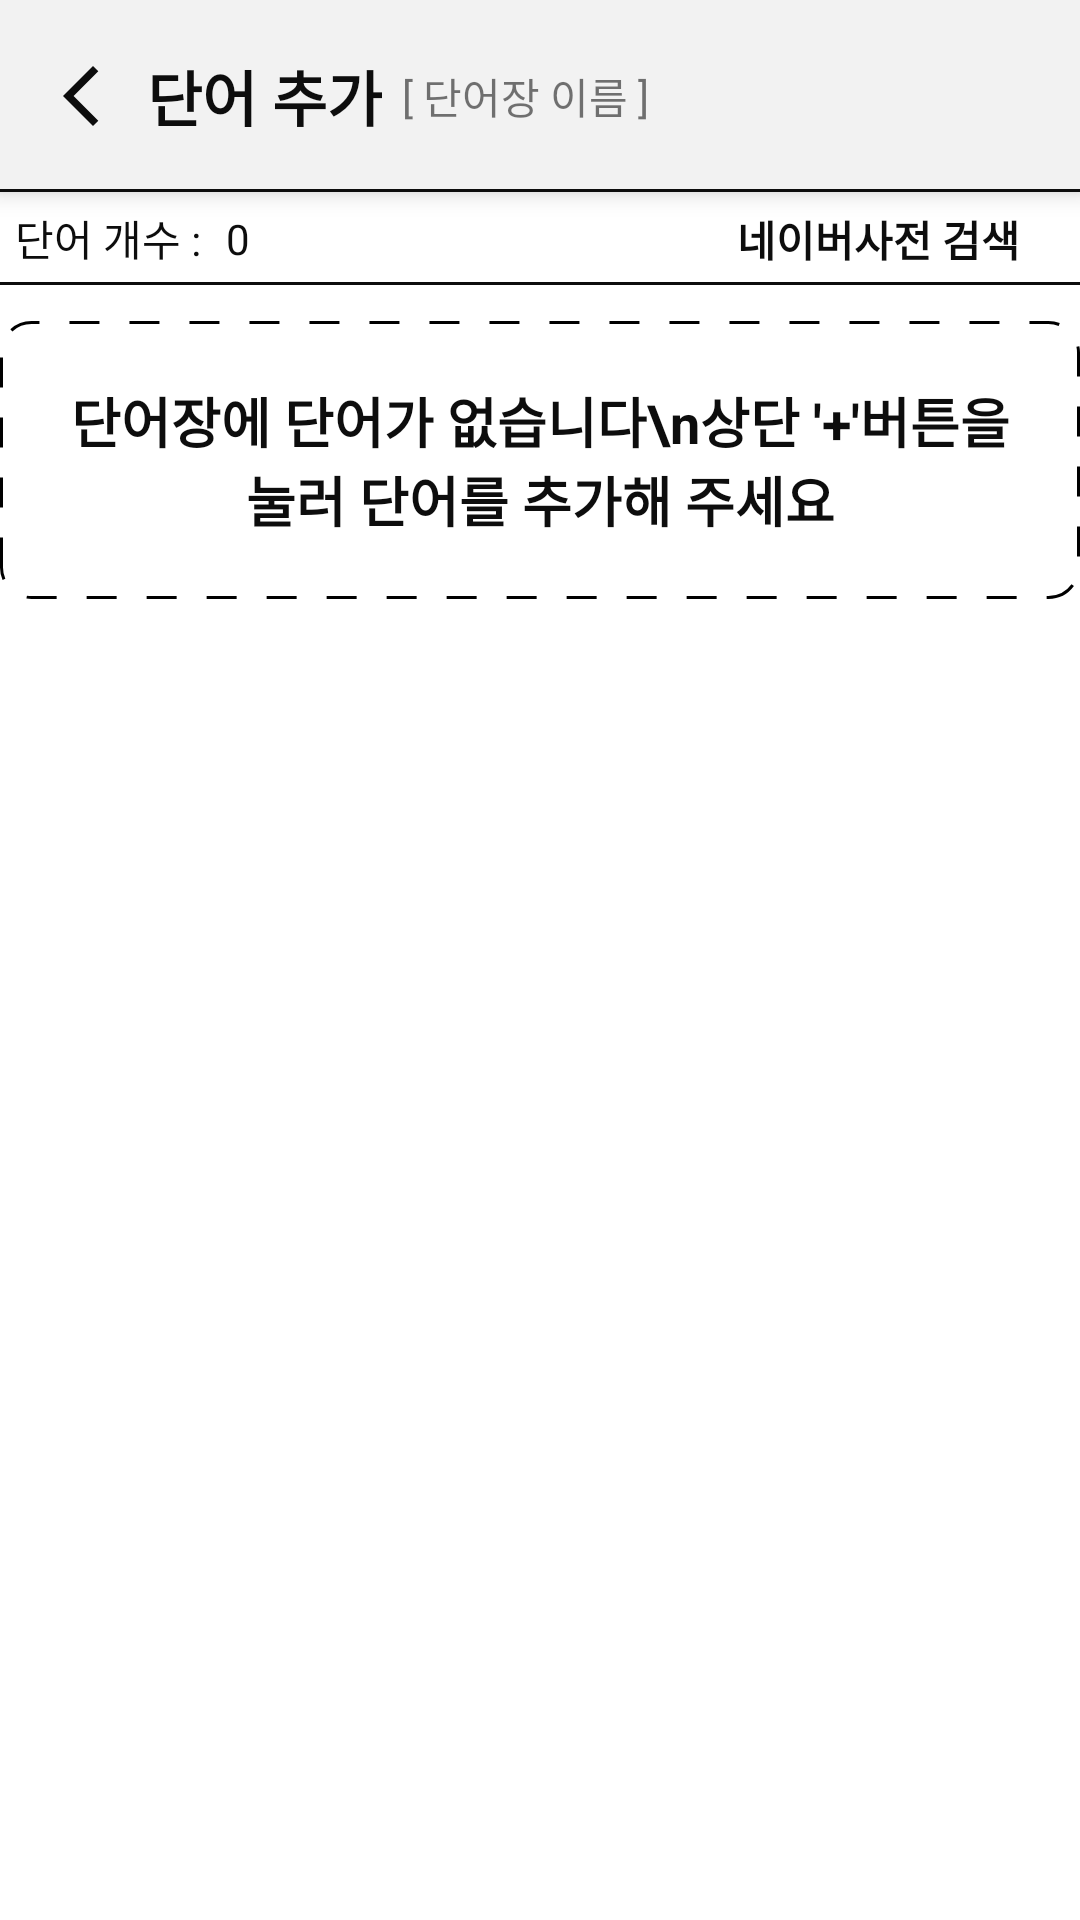

Icons on this 1080 × 1920 Android screen, each with the point to tap as point (x, y):
arrow back: point (80, 96)
